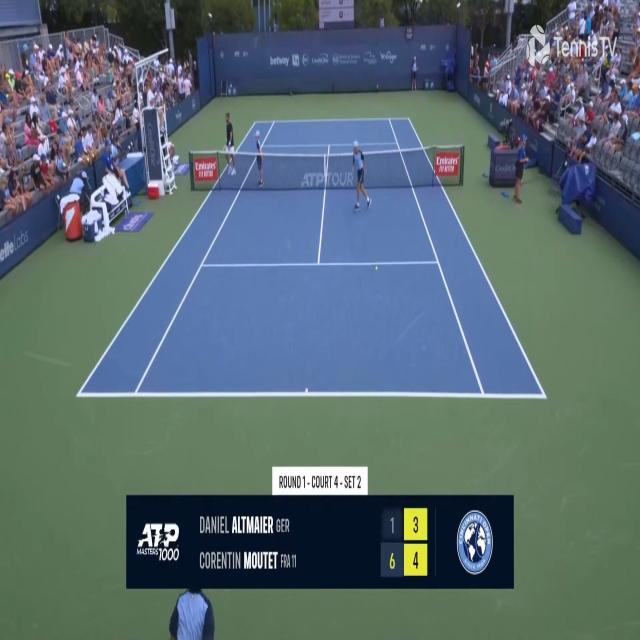tennis-player: (221, 108, 239, 179)
